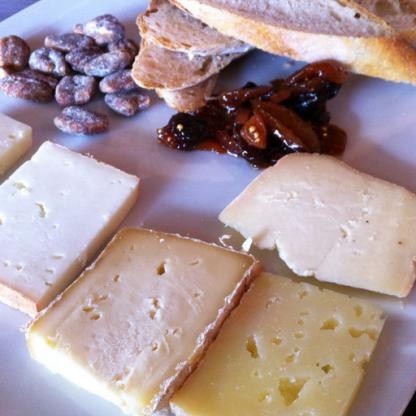bread: (157, 0, 415, 93)
cheese: (42, 228, 242, 409), (170, 272, 376, 415), (224, 166, 415, 296), (0, 140, 139, 314)
